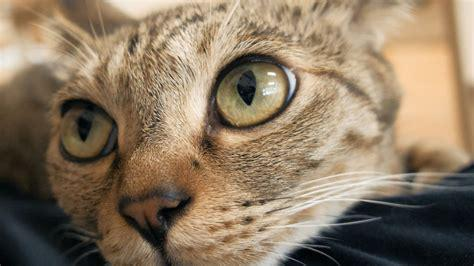cat: (44, 1, 400, 265)
